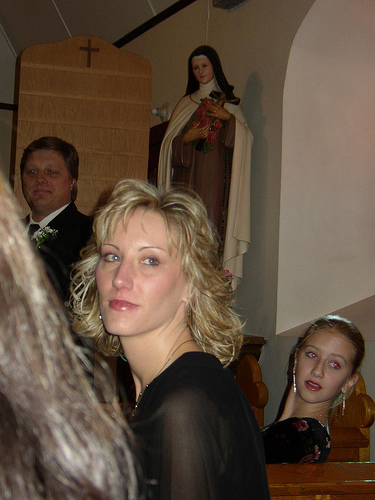without_mask: (93, 200, 221, 345), (286, 313, 373, 409), (14, 133, 86, 217)
